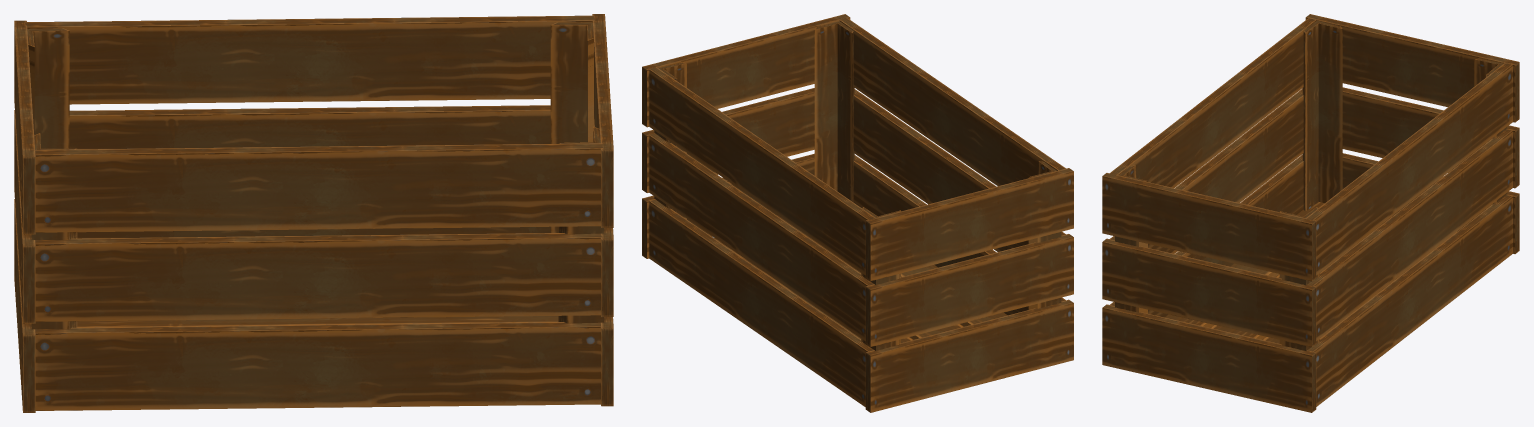
3 renders of one model, left to right at view 1: azimuth 30°, elevation 25°; view 2: azimuth 150°, elevation 25°; view 3: azimuth 270°, elevation 25°, orthographic. The views are drawn at different scales.
Visible parts, largest first — view 1: Cube.1870; view 2: Cube.1870; view 3: Cube.1870.
Boxes of the visible parts, bbox=[...] form: Cube.1870: bbox=[14, 14, 613, 412]; Cube.1870: bbox=[642, 14, 1073, 412]; Cube.1870: bbox=[1102, 14, 1519, 412].
Size of the model in its own units: 227 by 95.26 by 191.
Materials: 1 (1 with a texture image).
